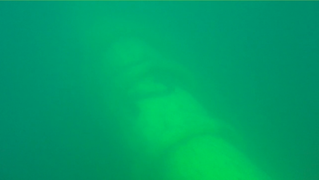2: (121, 75, 174, 118)
pipe: (77, 1, 273, 179)
